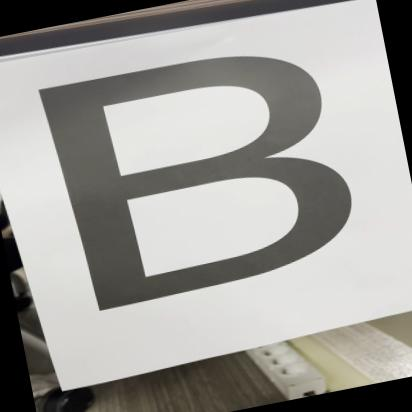seat: (18, 20, 386, 322)
